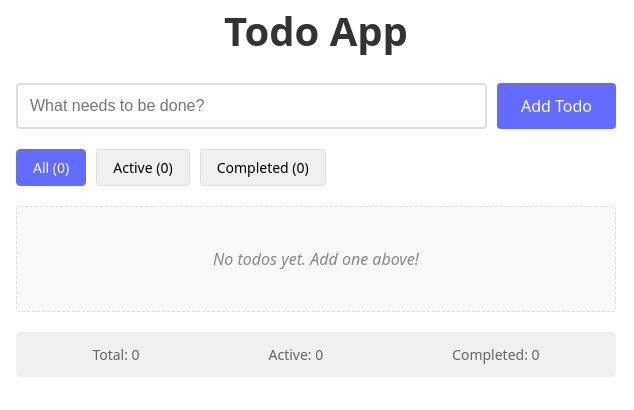
Scenario: Todos Component › filters todos by active
Type "Active Todo" into the field with test id "todo-input" at (252, 106), box [16,83,487,129]
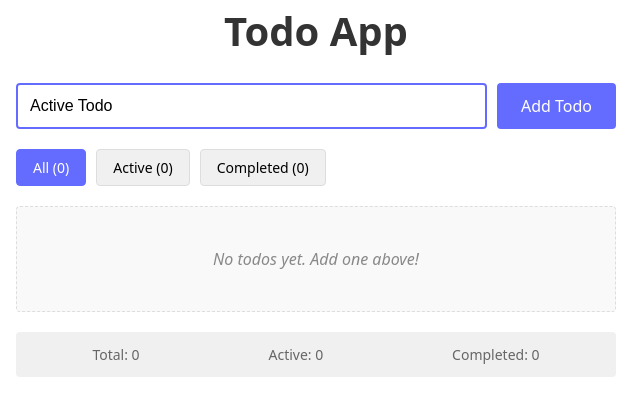
Click the button with test id "add-todo-button" at (556, 106), box [497,83,616,129]
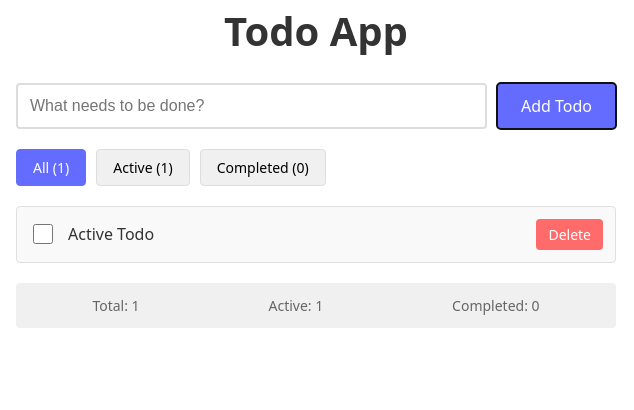
Type "Completed Todo" into the field with test id "todo-input" at (252, 106), box [16,83,487,129]
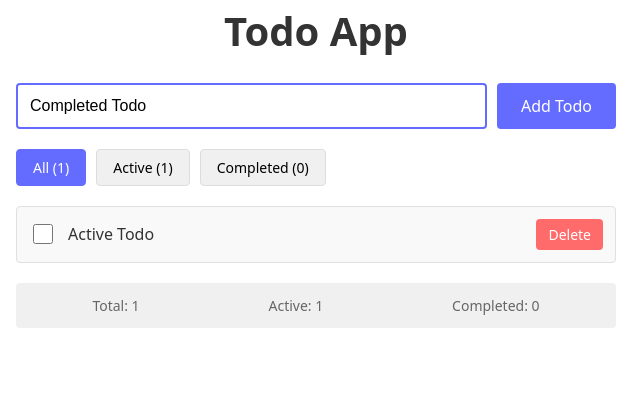
Click the button with test id "add-todo-button" at (556, 106), box [497,83,616,129]
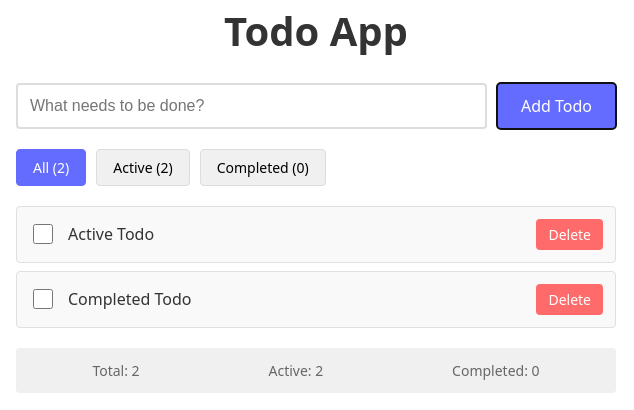
Click the checkbox with test id "todo-checkbox-" at (43, 299), box [33,289,53,309]
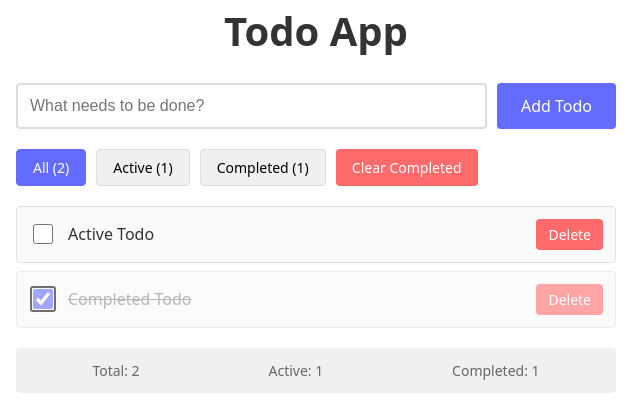
Note: Filter by active
Click the button with test id "filter-active" at (143, 167), box [96,149,190,186]
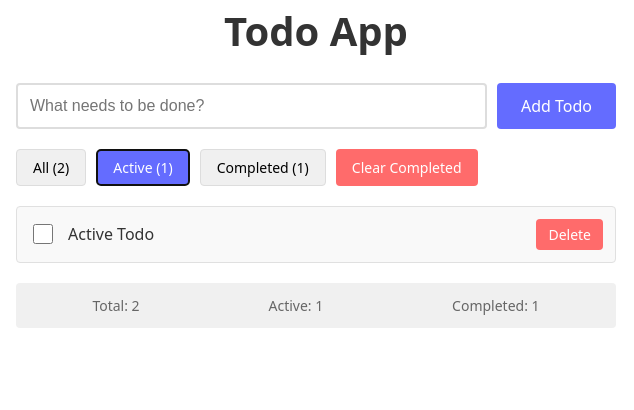
Result: the text "Active Todo" is shown at [68,223,154,245]
Result: the text "Completed Todo" is gone
